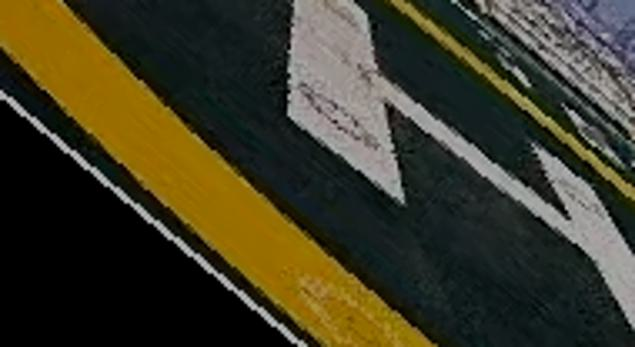Apron: (2, 6, 635, 347)
